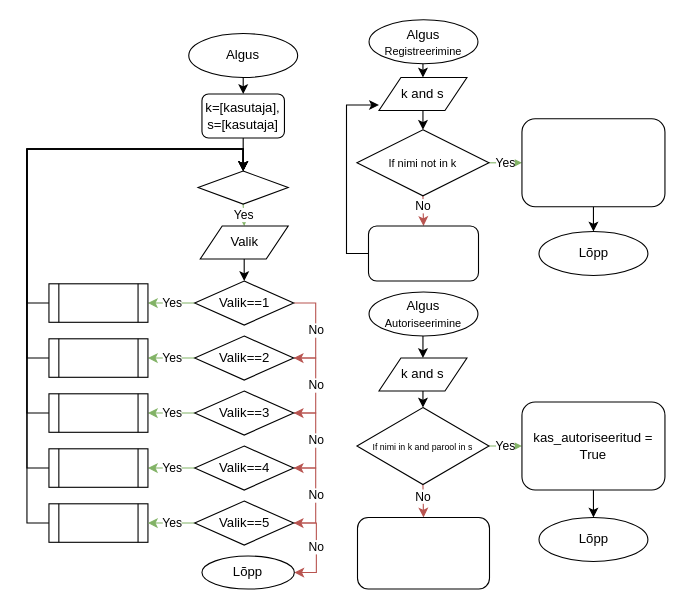
The diagram is 684 pixels wide and 608 high, and some of its shapes have lost their labels. Here are the shapes that lost their labels. From the top down, the centre of each, then its label:
(x=593, y=162): k.append(nimi) s.append(parool) kas_autoriseeritud = True break
(x=242, y=187): True
(x=423, y=253): Kasutajanimi või parool on kasutatud
(x=98, y=302): Registreerimine
(x=98, y=357): Autoriseerimine
(x=98, y=412): Muutmine
(x=98, y=467): Parooli taastamine
(x=98, y=522): Lõpetamine
(x=423, y=552): print("Vale kasutaja nimi või salasõna\nKas tahate registreerida?
